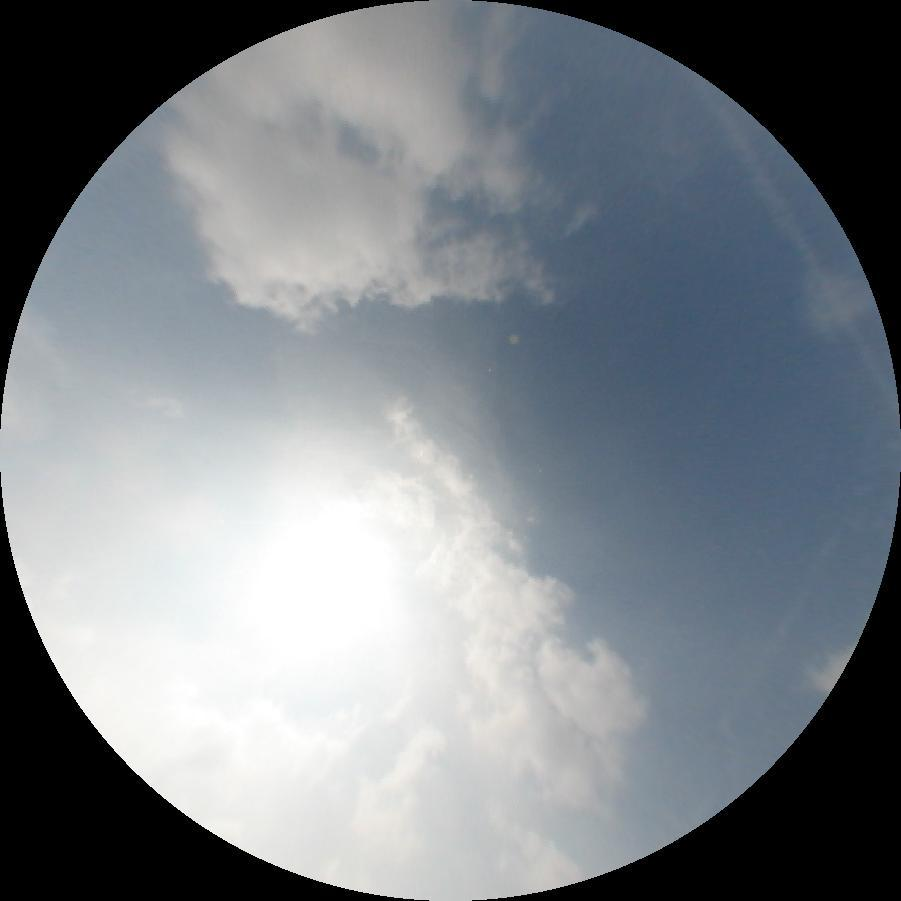sun: (232, 509, 413, 703)
unknow: (714, 525, 849, 740)
